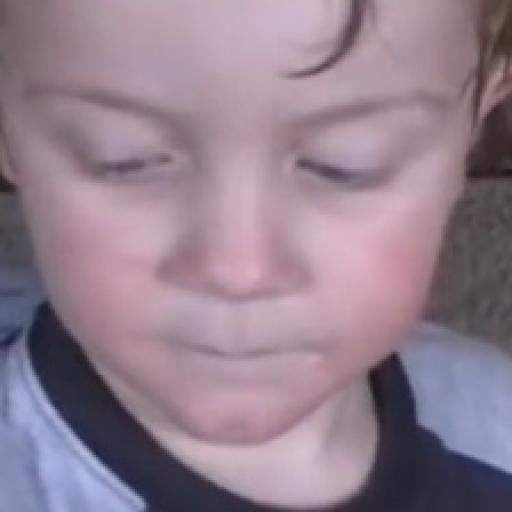Autism: (33, 0, 491, 460)
